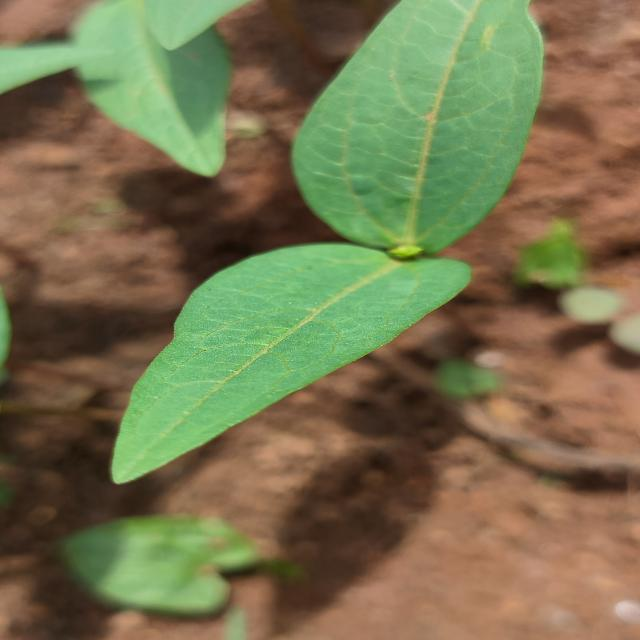Black gram_healthy: (114, 242, 470, 489), (290, 0, 549, 261)
